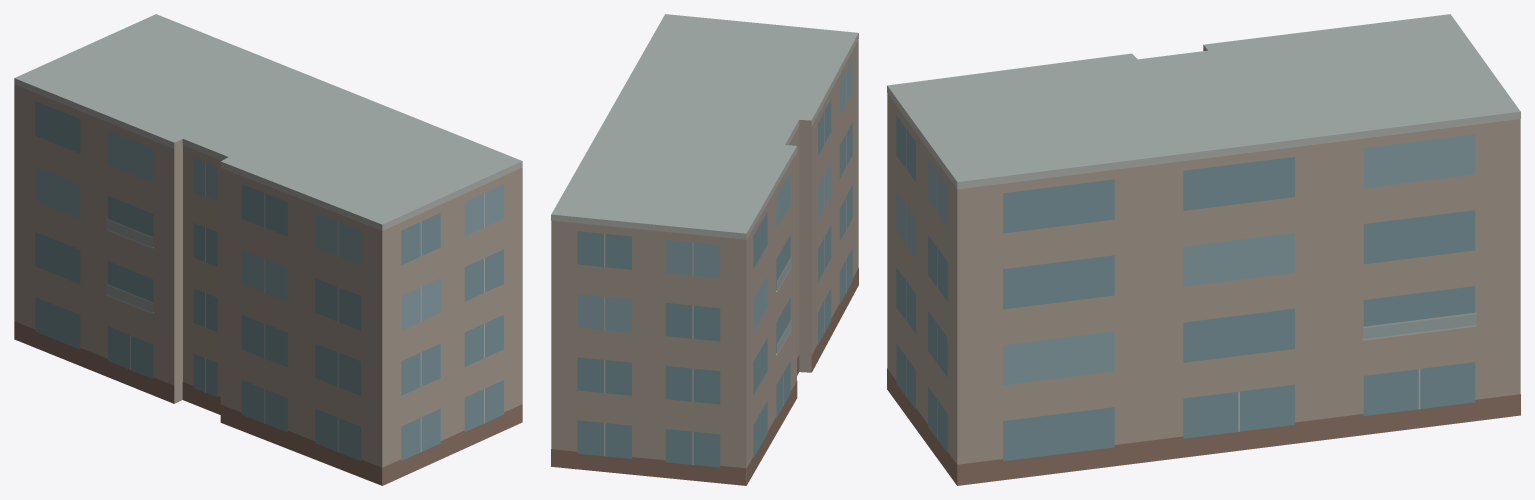
Rendered from survey-upis-32605497.glb.
3 views of the same model, side by side, from view 1: azimuth 30°, elevation 25°; view 2: azimuth 150°, elevation 25°; view 3: azimuth 270°, elevation 25° (orthographic). The views are drawn at different scales.
Parts seen in each view (by area): view 1: survey-upis-32605497.tmp; view 2: survey-upis-32605497.tmp; view 3: survey-upis-32605497.tmp.
Part boxes in pixels (x1,y1,x2,y2): survey-upis-32605497.tmp: (14, 14, 522, 485); survey-upis-32605497.tmp: (551, 14, 858, 485); survey-upis-32605497.tmp: (887, 14, 1520, 485).
Size of the model in its own units: 12 by 10.1 by 19.11.
